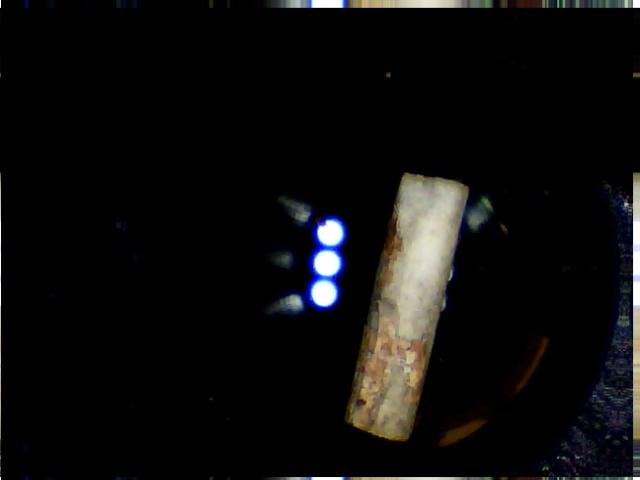megot: (321, 150, 487, 462)
